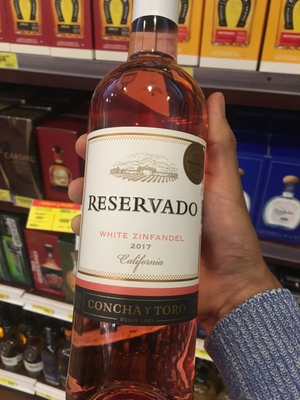reservado white zinfandel: (79, 15, 205, 400)
